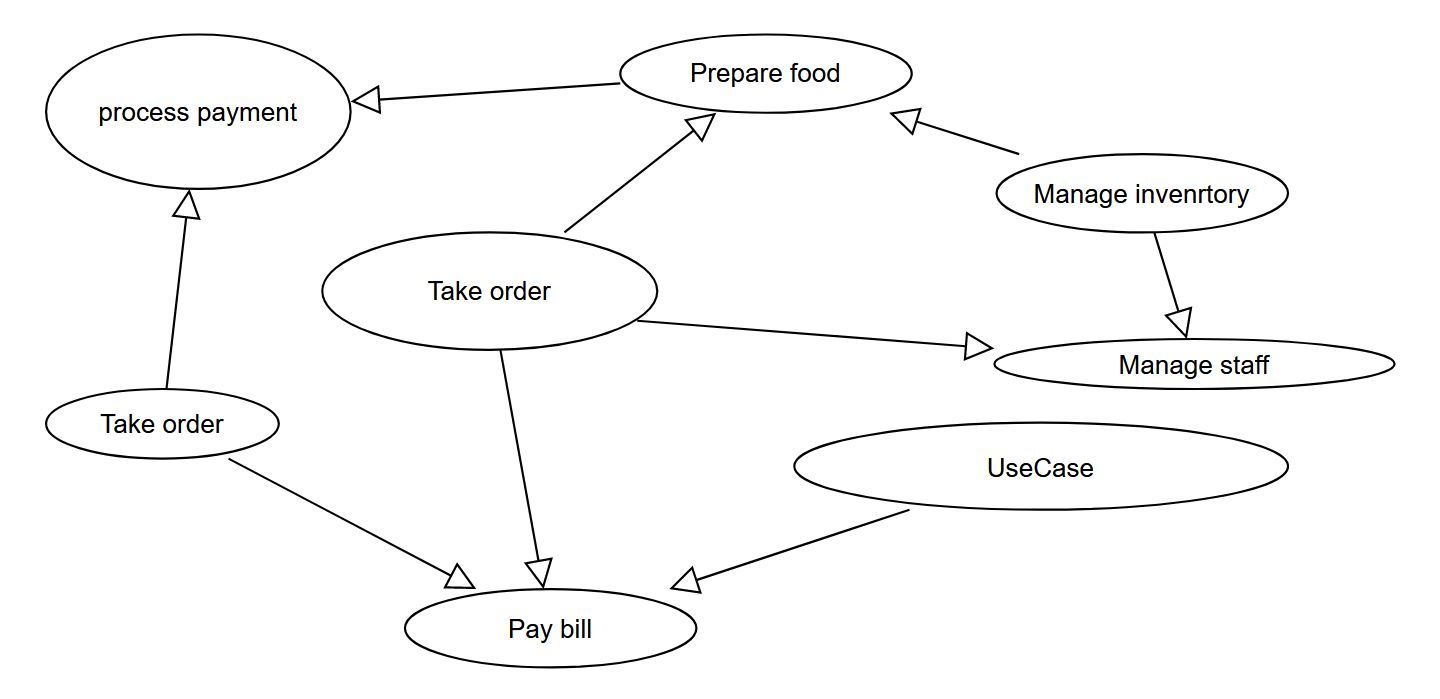generalization: (227, 461, 476, 589), (671, 505, 911, 592), (567, 111, 719, 233), (636, 316, 993, 362), (496, 349, 552, 586), (349, 73, 621, 113), (161, 188, 201, 388), (890, 107, 1020, 153), (1148, 232, 1192, 339)
text: (1025, 176, 1254, 212), (88, 92, 296, 130), (687, 54, 846, 90), (422, 268, 552, 308), (1112, 349, 1275, 380), (979, 446, 1103, 483), (94, 412, 225, 440), (496, 613, 599, 643)
use_case: (43, 32, 350, 187), (794, 423, 1290, 508), (320, 232, 656, 350), (619, 31, 917, 115), (994, 152, 1293, 233), (404, 587, 699, 669), (994, 336, 1396, 392), (47, 390, 279, 459)
